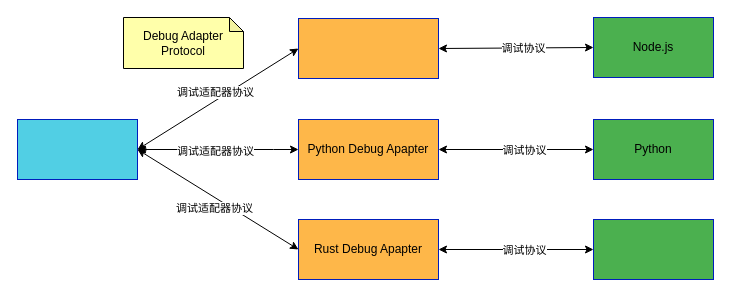
This 731x297 diagram has some shape labels left out. Each missing label, with the centre of its shape:
Node.js Debug Apapter: pixel 368 48
Rust: pixel 653 249
VScode Debugger: pixel 77 149
